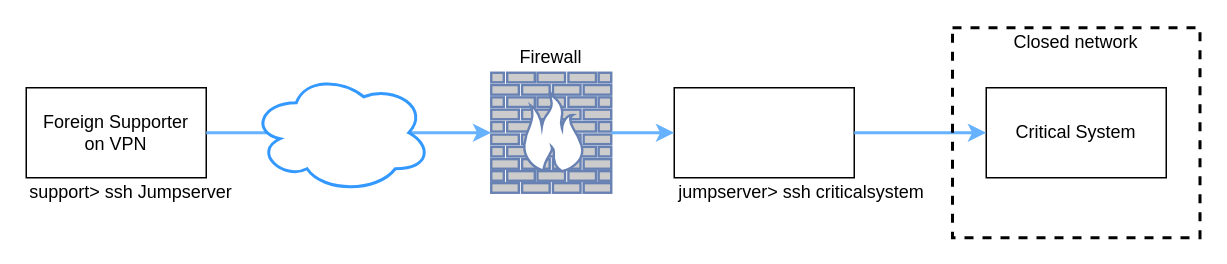
Image size: 1227x264. Some labels were removed from this diagram. Here are the shapes that lost their labels. From the top down, the centre of each, then its label:
At (x=340, y=132): "Internet".
At (x=763, y=132): "Jumpserver".
